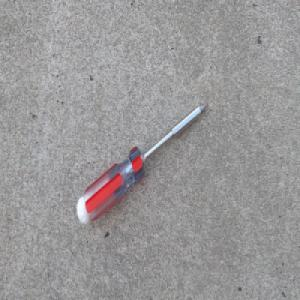Screwdriver: (75, 100, 208, 226)
